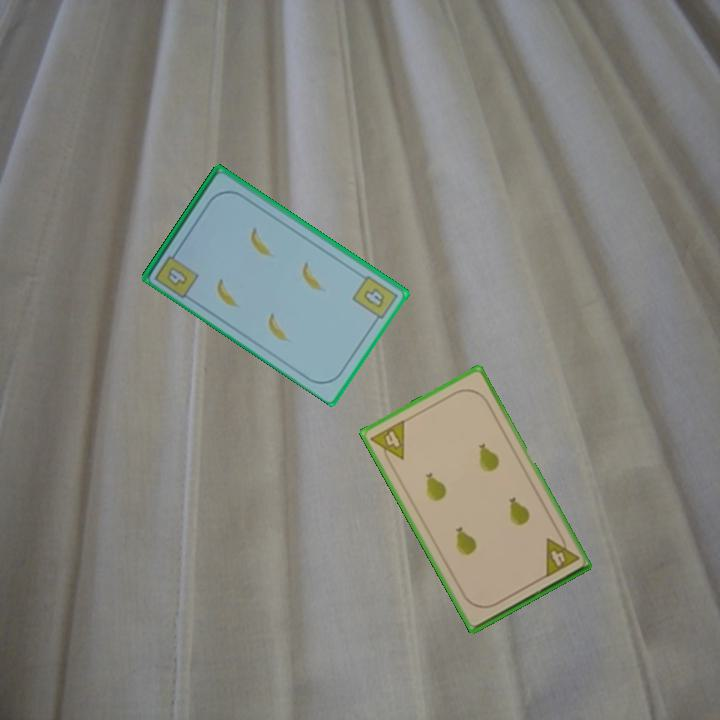4b: (349, 271, 401, 326), (151, 245, 201, 301)
4p: (367, 416, 408, 469), (541, 529, 582, 580)
